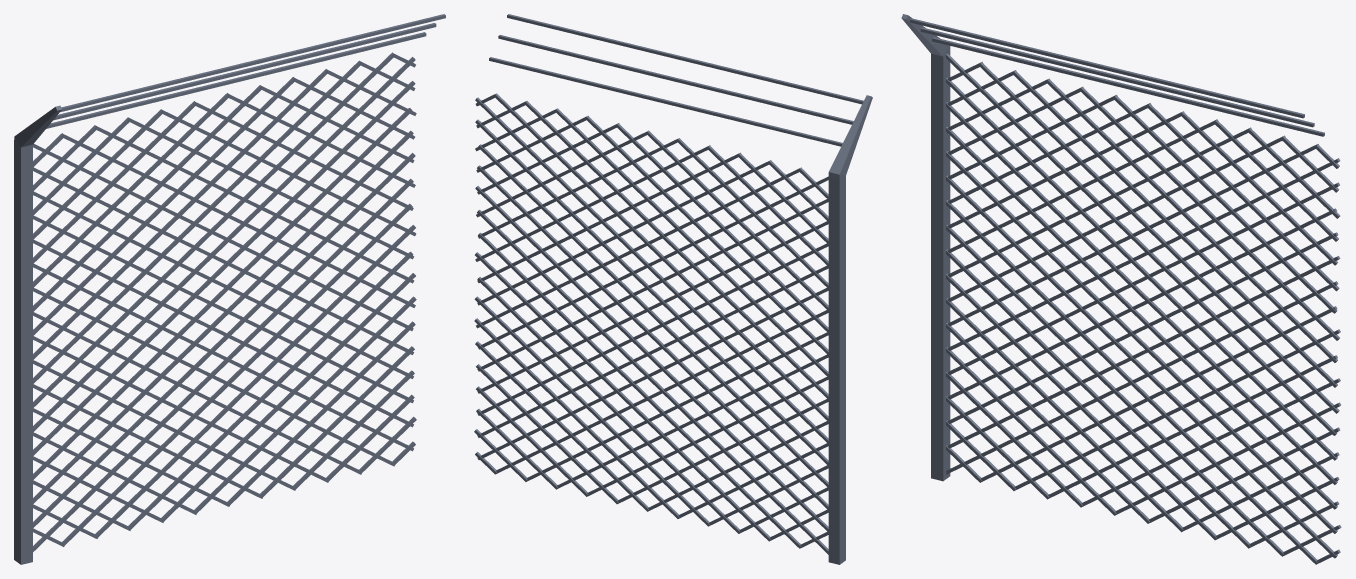
File: fence_metal_L.fbx
3 renders of one model, left to right at view 1: azimuth 30°, elevation 25°; view 2: azimuth 150°, elevation 25°; view 3: azimuth 330°, elevation 25°, orthographic. The views are drawn at different scales.
Visible parts, largest first — view 1: fence_metal_L; view 2: fence_metal_L; view 3: fence_metal_L.
Part boxes in pixels (x1,y1,x2,y2): fence_metal_L: [14, 14, 445, 564]; fence_metal_L: [474, 14, 872, 564]; fence_metal_L: [901, 14, 1341, 564].
Bounding box in the file's own units: 434 × 499 × 74.61.
